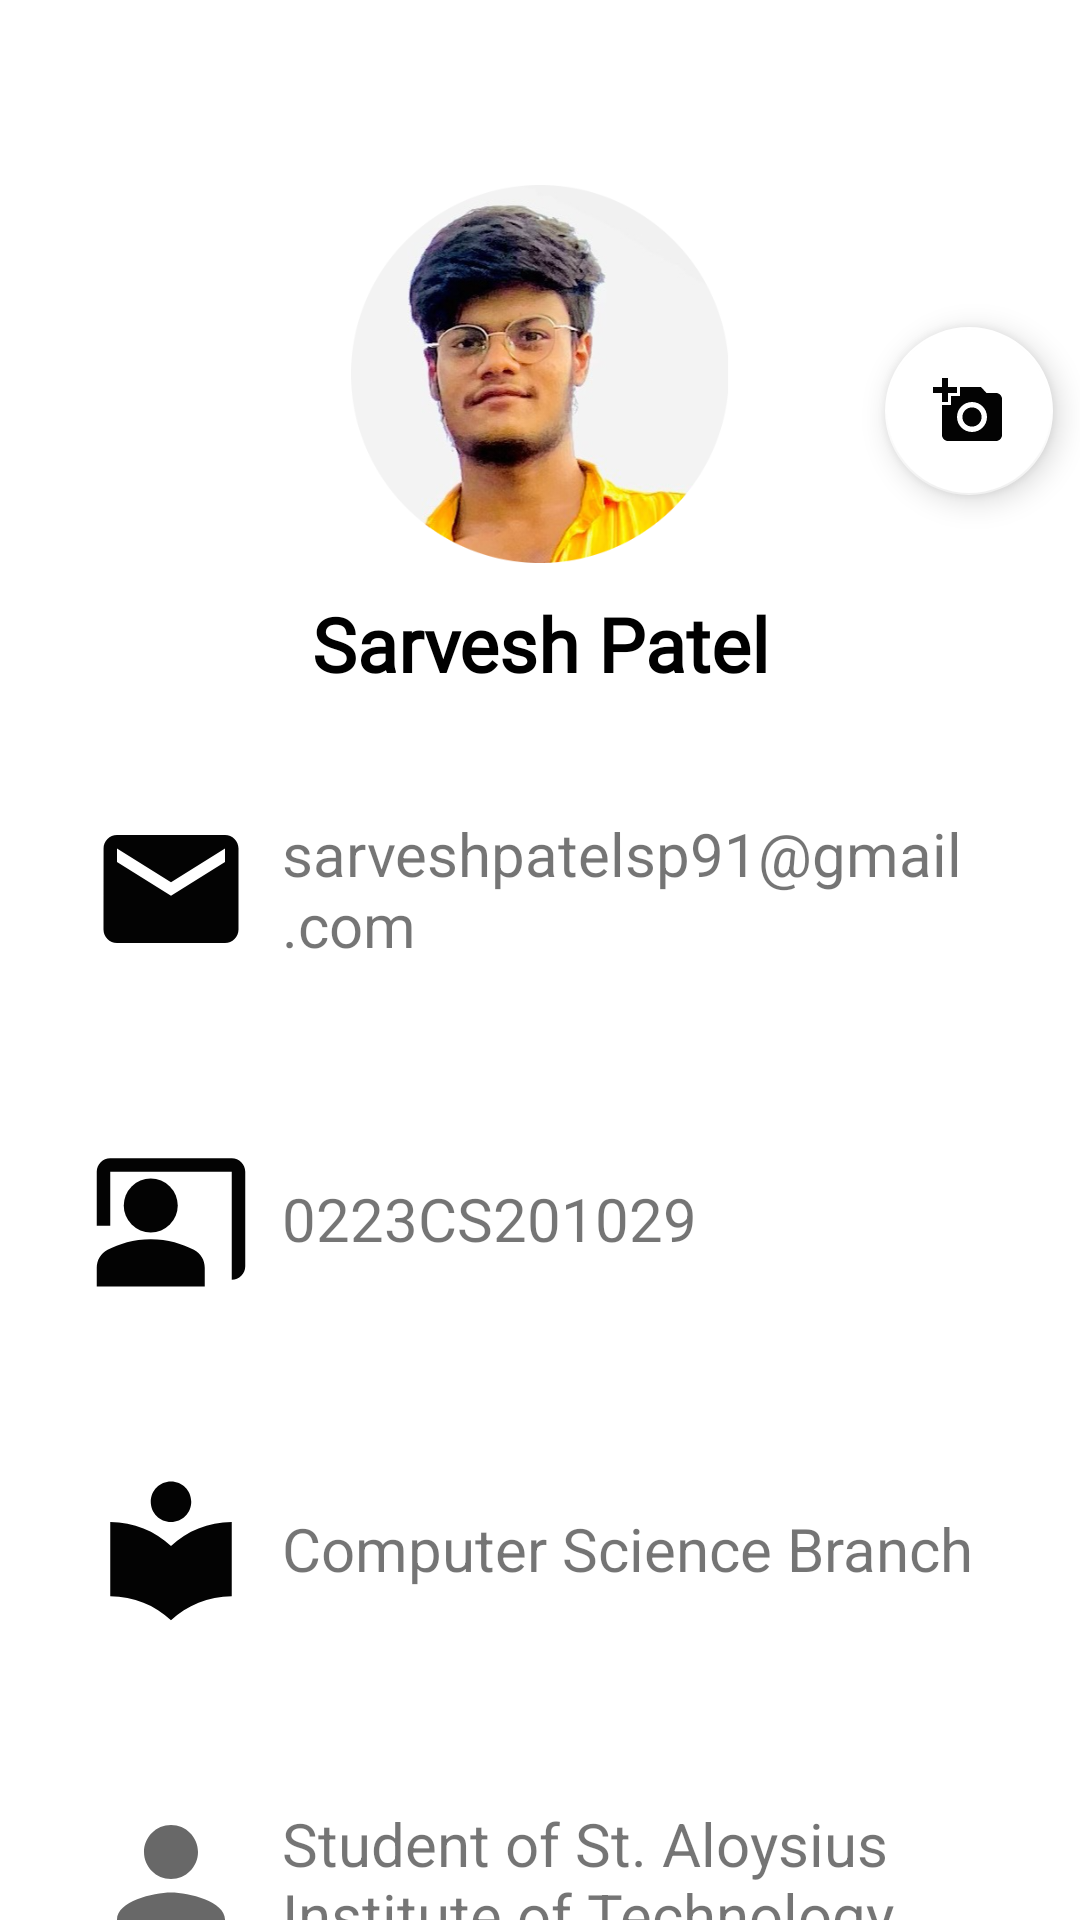

Where to tap for icons on this 1080×1920 app screen, as (x,y):
email: (171,889)
enrollment: (171,1222)
local branch: (171,1550)
